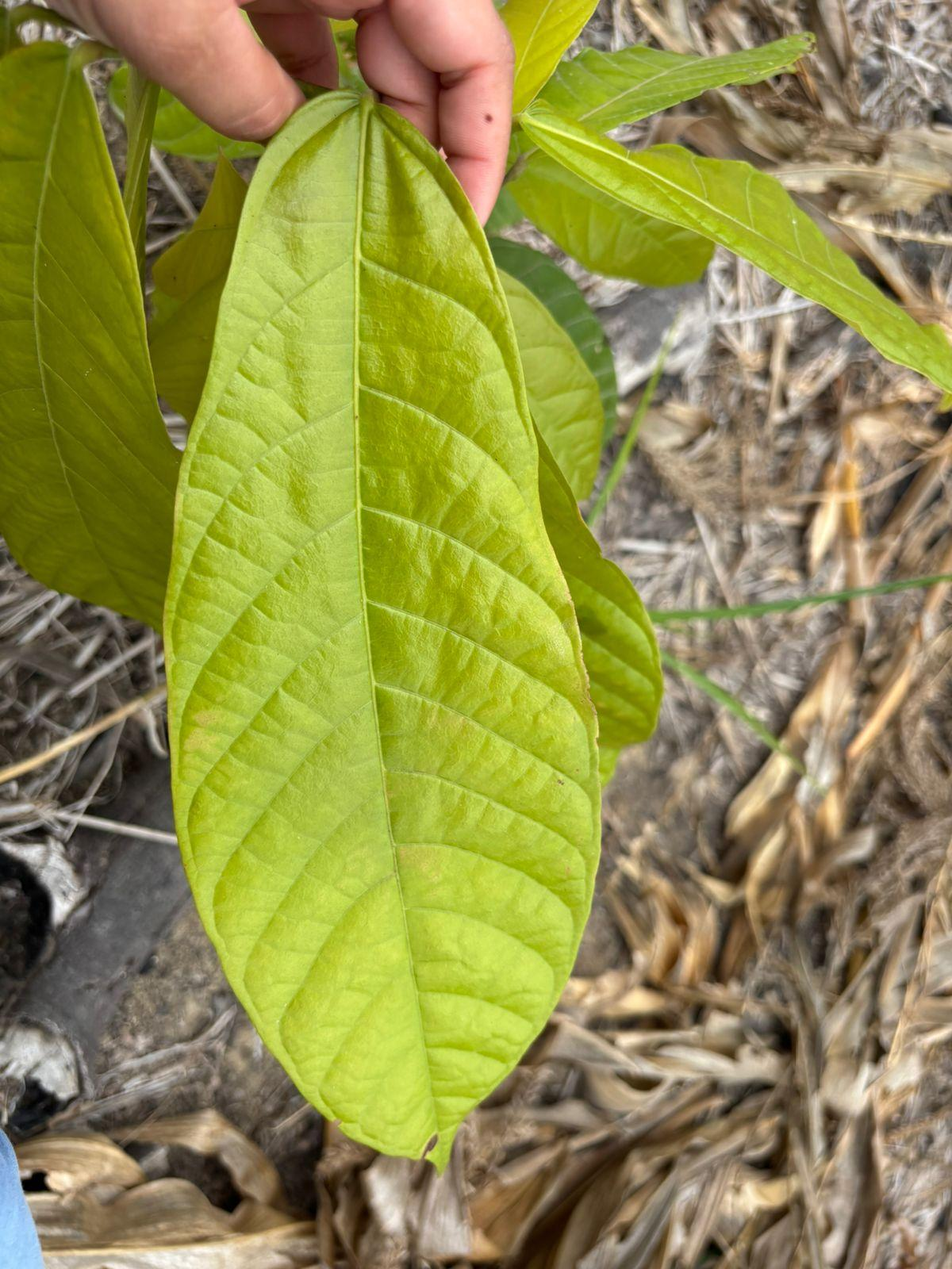deficiencia_nitrogeno: (165, 93, 599, 1165)
